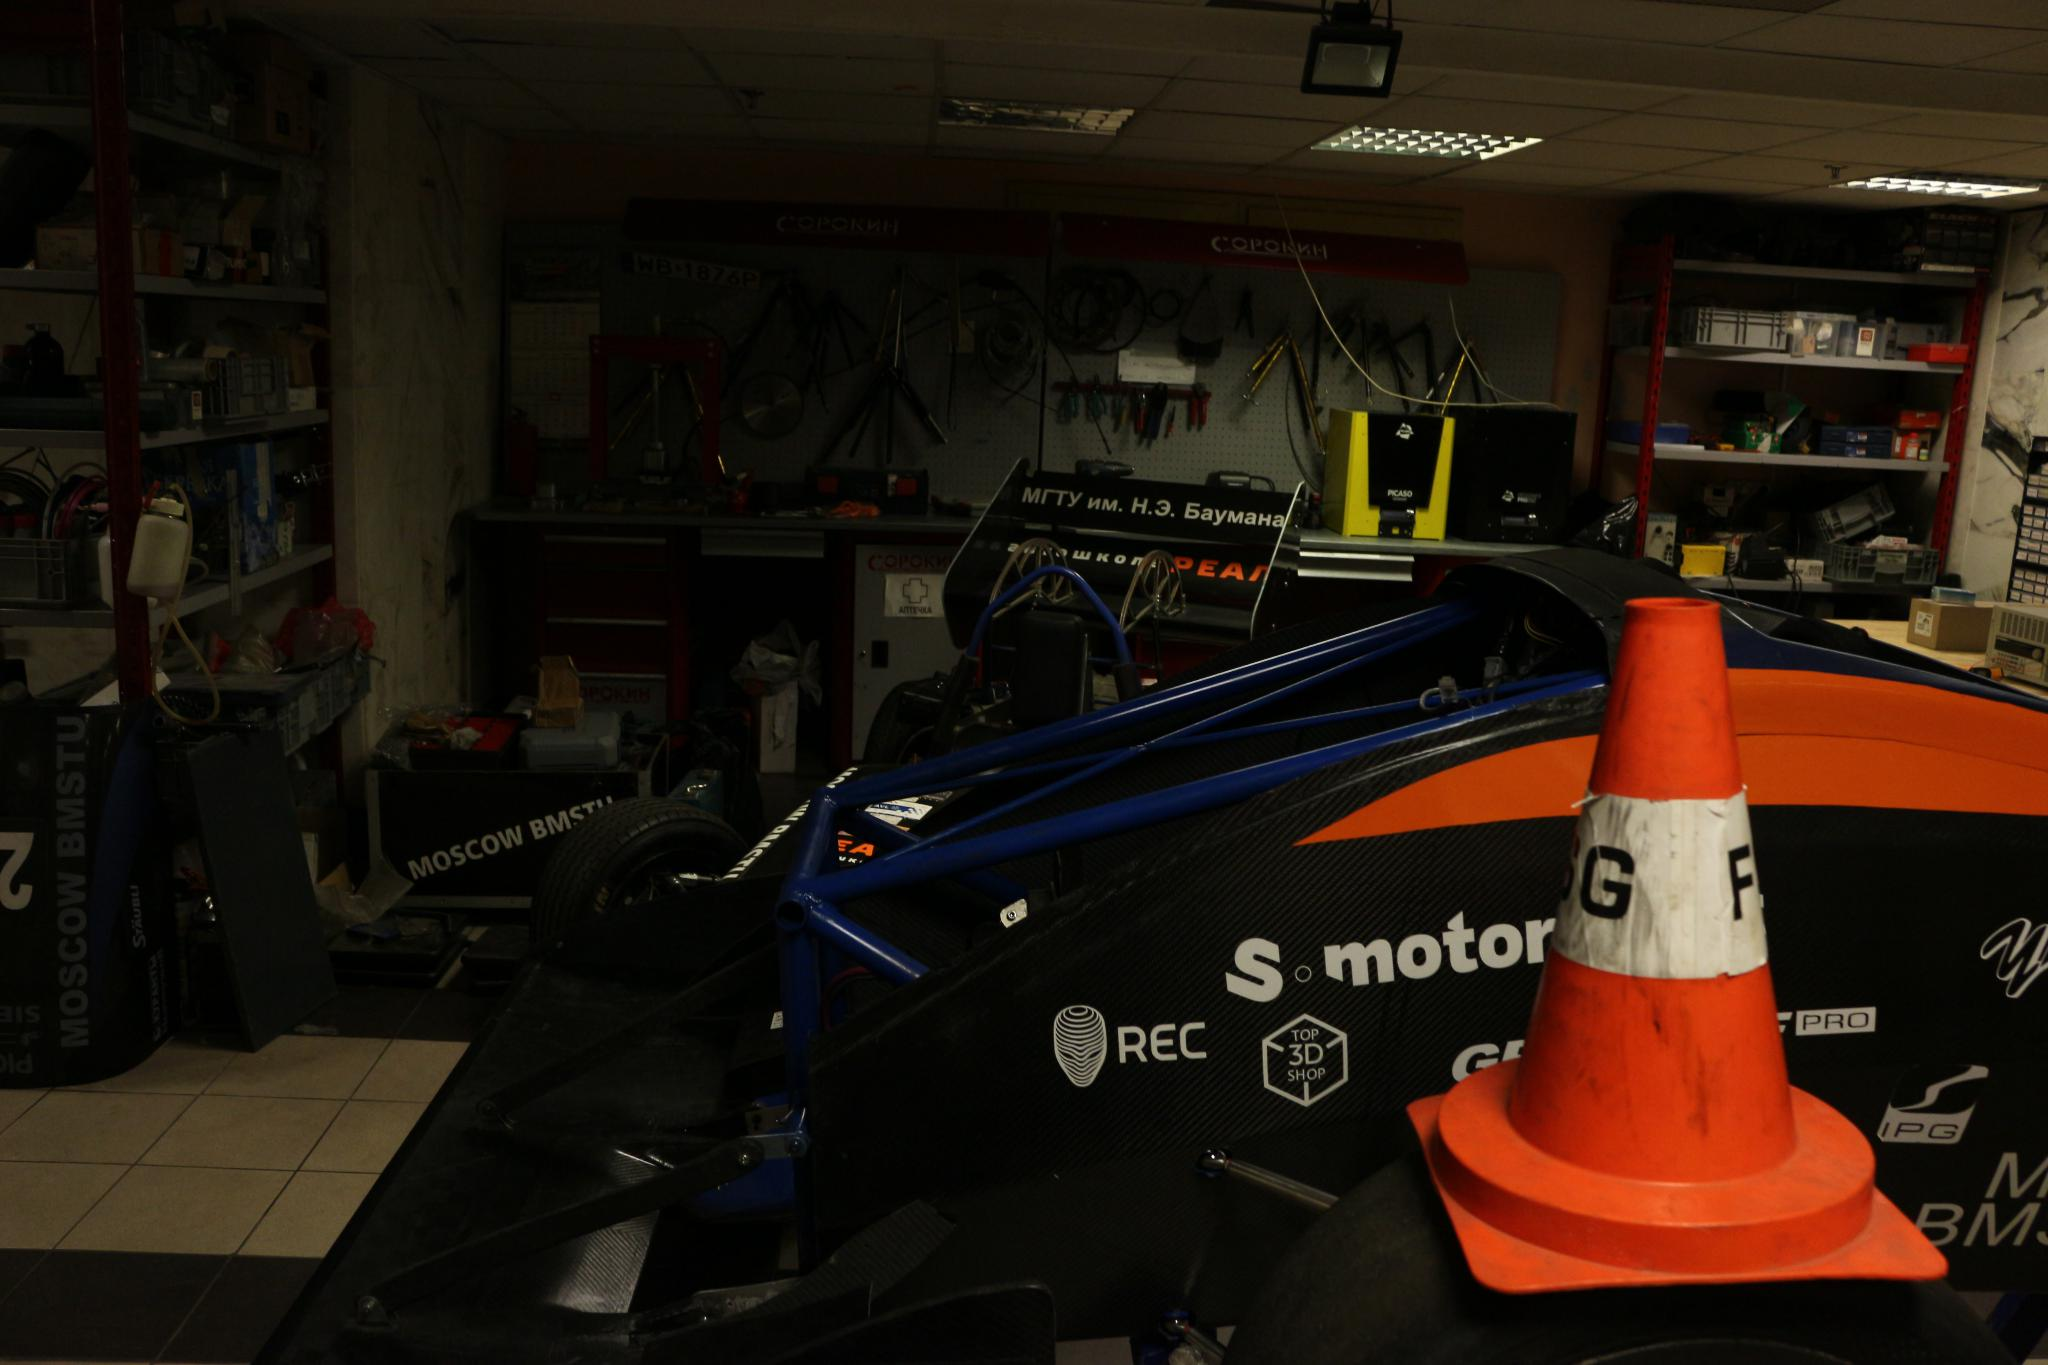Orange_Cone: (1415, 587, 1896, 1274)
